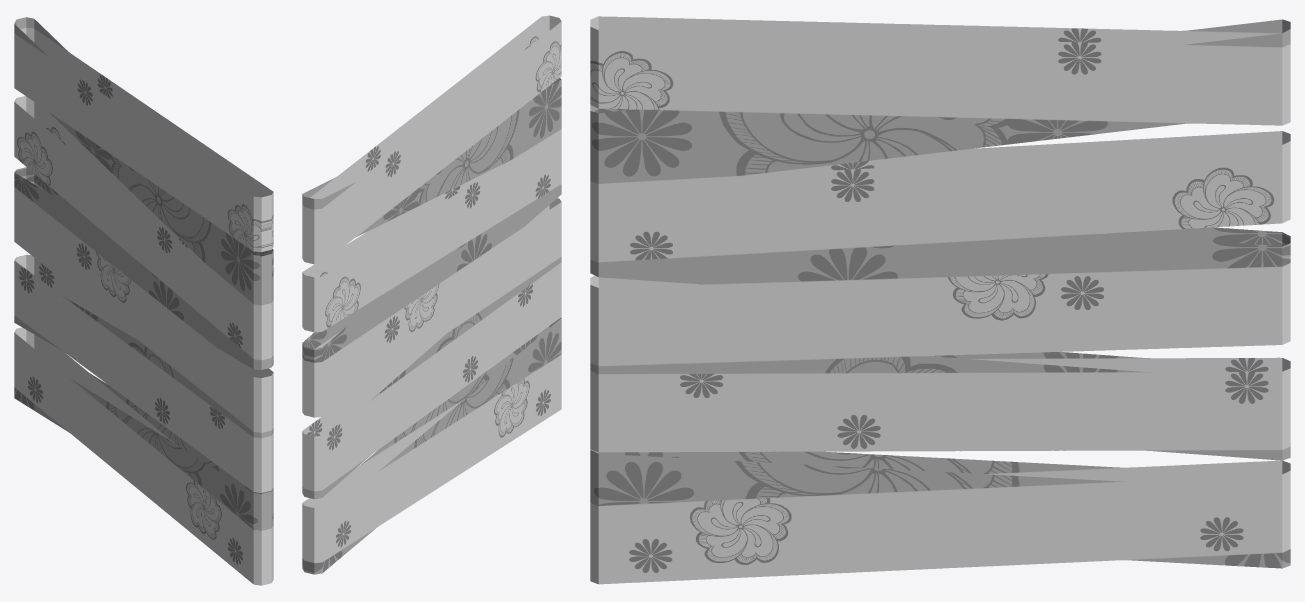
The model's file is BreakableWall.fbx.
The picture shows the model from 3 angles, left to right: view 1: azimuth 30°, elevation 25°; view 2: azimuth 150°, elevation 25°; view 3: azimuth 270°, elevation 25°; orthographic projection. The views are drawn at different scales.
Parts seen in each view (by area): view 1: BreakableWall_GEO; view 2: BreakableWall_GEO; view 3: BreakableWall_GEO.
Boxes of the visible parts, x1=… form: BreakableWall_GEO: x1=14, y1=17, x2=273, y2=585; BreakableWall_GEO: x1=302, y1=15, x2=561, y2=574; BreakableWall_GEO: x1=590, y1=16, x2=1290, y2=584.
Bounding box in the file's own units: 40 × 750 × 850.
